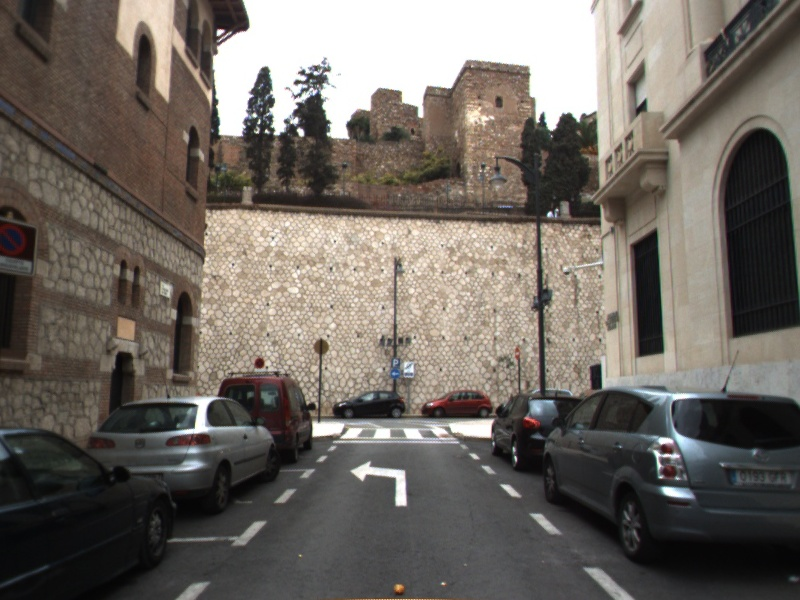LEFT: (348, 458, 409, 508)
